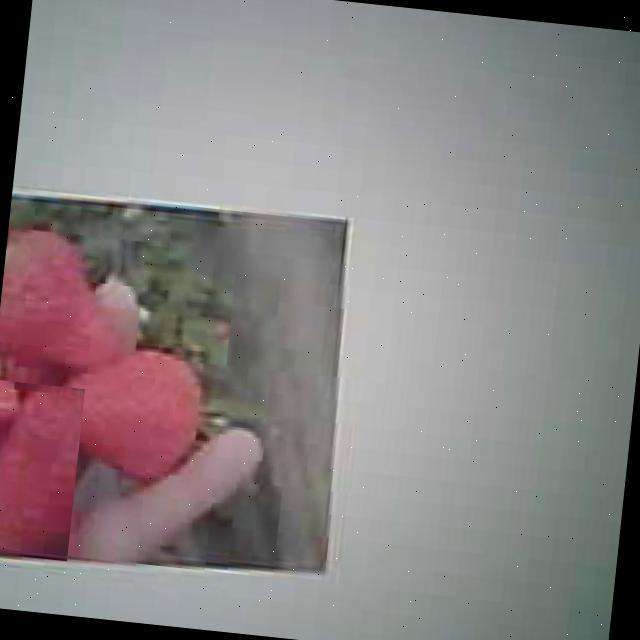ripe: (51, 344, 206, 485), (0, 225, 124, 370), (0, 379, 84, 561)
